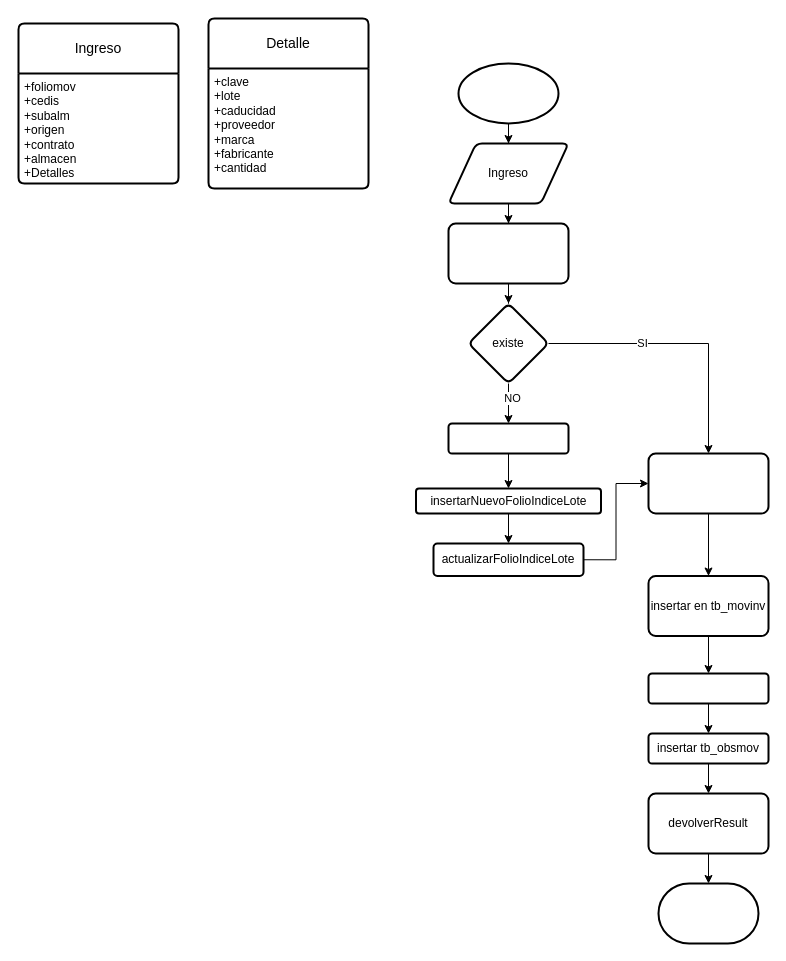
The diagram is 786 pixels wide and 961 high, and some of its shapes have lost their labels. The centre of each missing label's shape, as x and y in pixels:
"actualizarCantidad" goes at point 708,688.
"tomarFolioIndiceLote" goes at point 508,438.
"traerIdLote" goes at point 708,483.
"verificarLotePorClave" goes at point 508,253.
